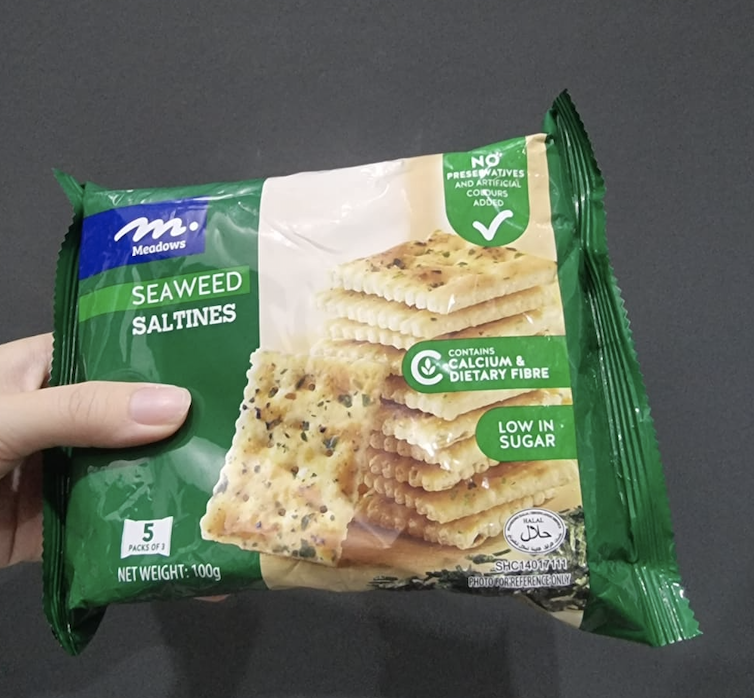Halal: (514, 518, 555, 544)
